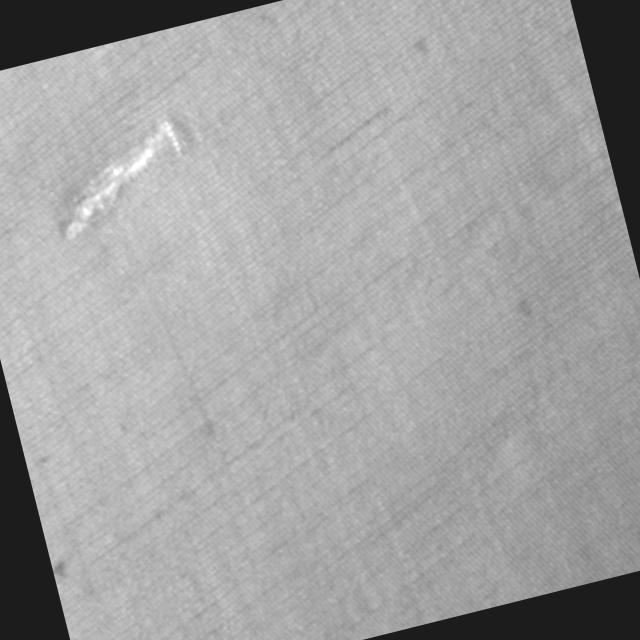hole: (33, 103, 203, 250)
